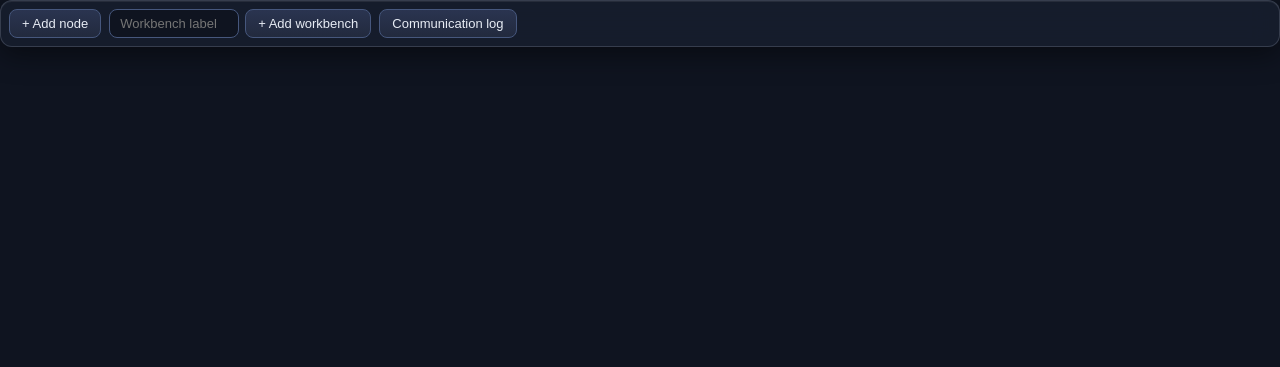
add-node pair hint (Issue #251: why EL/CL is a pair) › language switching (Issue #251 requirement 4) › shows the English pair explanation in English mode
This screenshot has width=1280, height=367.
Hover over the element showing "+ Add node": (55, 24) [9, 9, 101, 38]
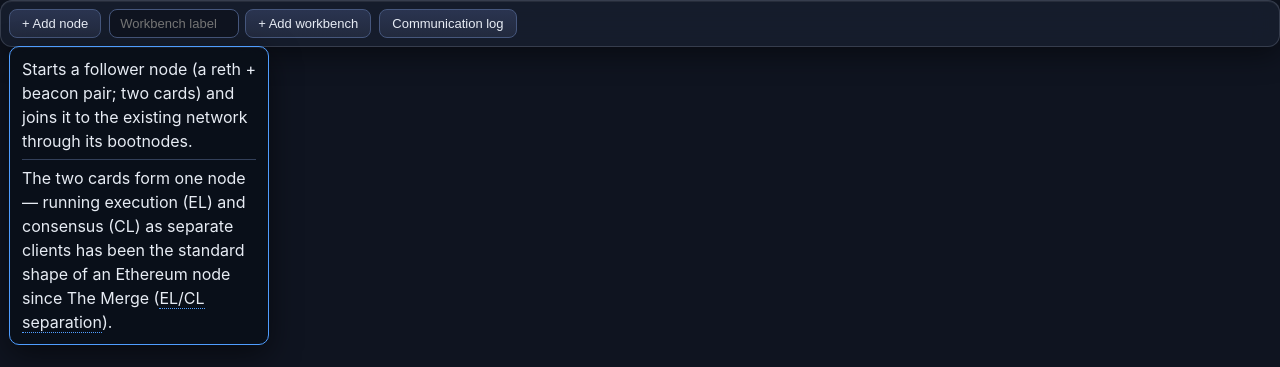
Check: the tooltip shows "The two cards form one node — running execution (EL) and consensus (CL) as separate clients has been the standard shape of an Ethereum node since The Merge (", box [22, 168, 246, 308]
Check: the tooltip shows "EL/CL separation", box [22, 288, 204, 332]
